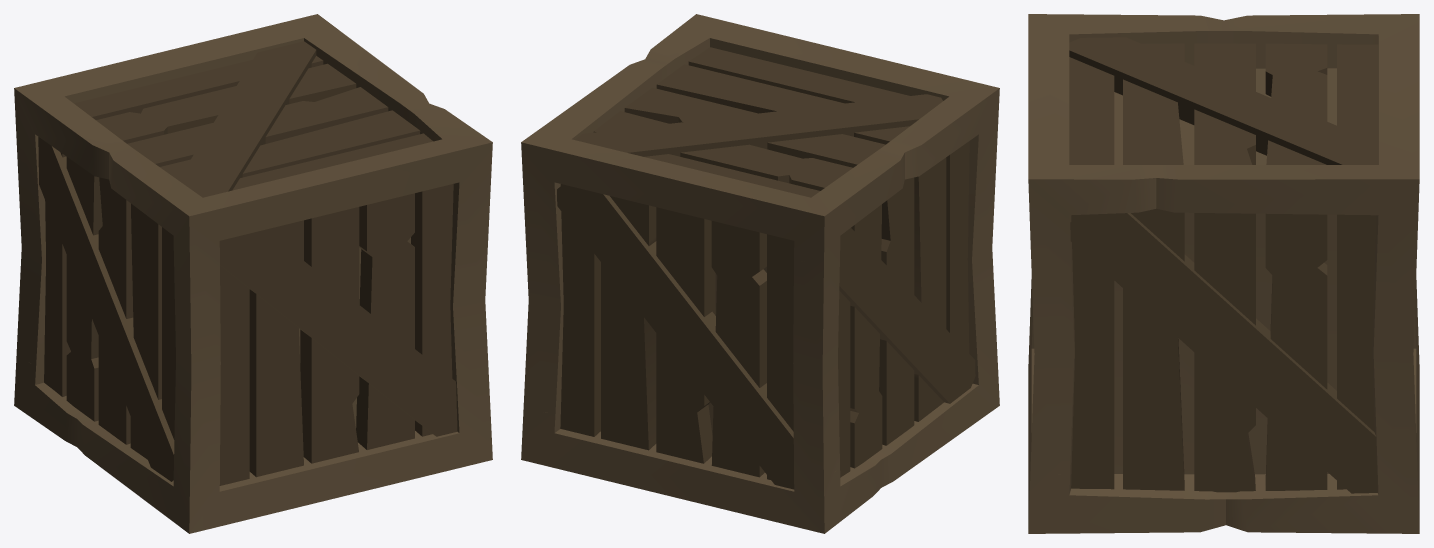
Rendered from Crate.glb.
3 renders of one model, left to right at view 1: azimuth 30°, elevation 25°; view 2: azimuth 150°, elevation 25°; view 3: azimuth 270°, elevation 25°, orthographic. The views are drawn at different scales.
Visible parts, largest first — view 1: DarkWood, Wood; view 2: DarkWood, Wood; view 3: DarkWood, Wood.
Part boxes in pixels (box(x1,y1,x2,y2)): DarkWood: box(29, 41, 457, 485); Wood: box(14, 14, 492, 533); DarkWood: box(545, 47, 975, 489); Wood: box(521, 14, 999, 533); DarkWood: box(1058, 37, 1378, 493); Wood: box(1028, 14, 1419, 533).
Bounding box in the file's own units: 0.8239 × 0.824 × 0.824.
